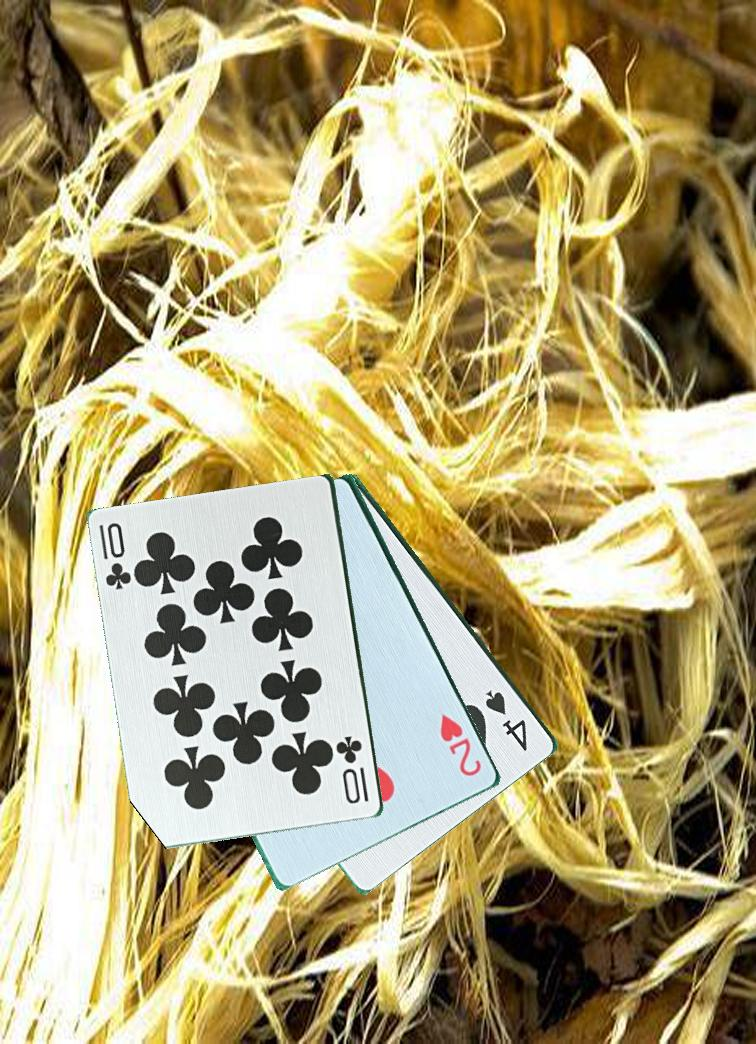2h: (436, 710, 485, 781)
4s: (482, 686, 531, 754)
tc: (335, 728, 373, 814), (96, 519, 135, 593)
